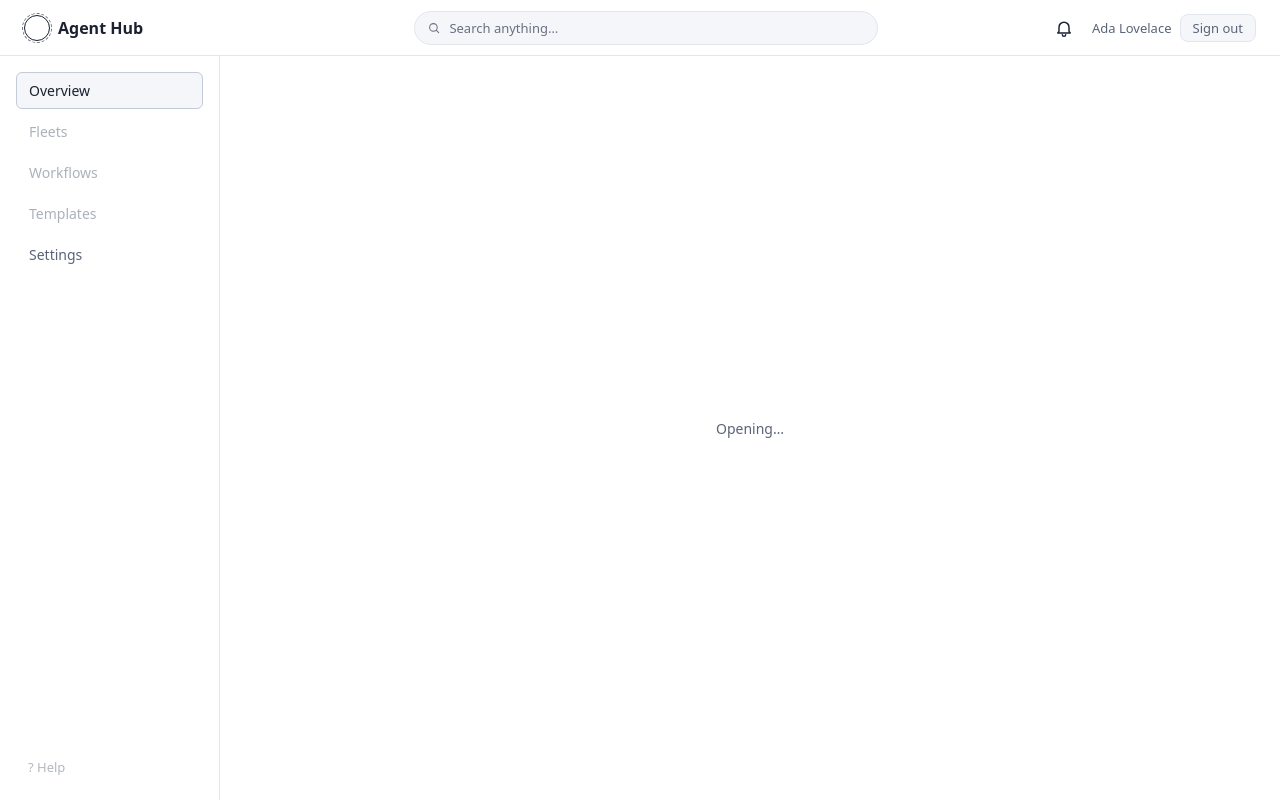
Test: shows who is signed in, and lets them sign out
Check: the text "Ada Lovelace" is shown, box [1092, 18, 1172, 36]
Click the button "Sign out" at (1218, 28), box [1180, 14, 1256, 42]
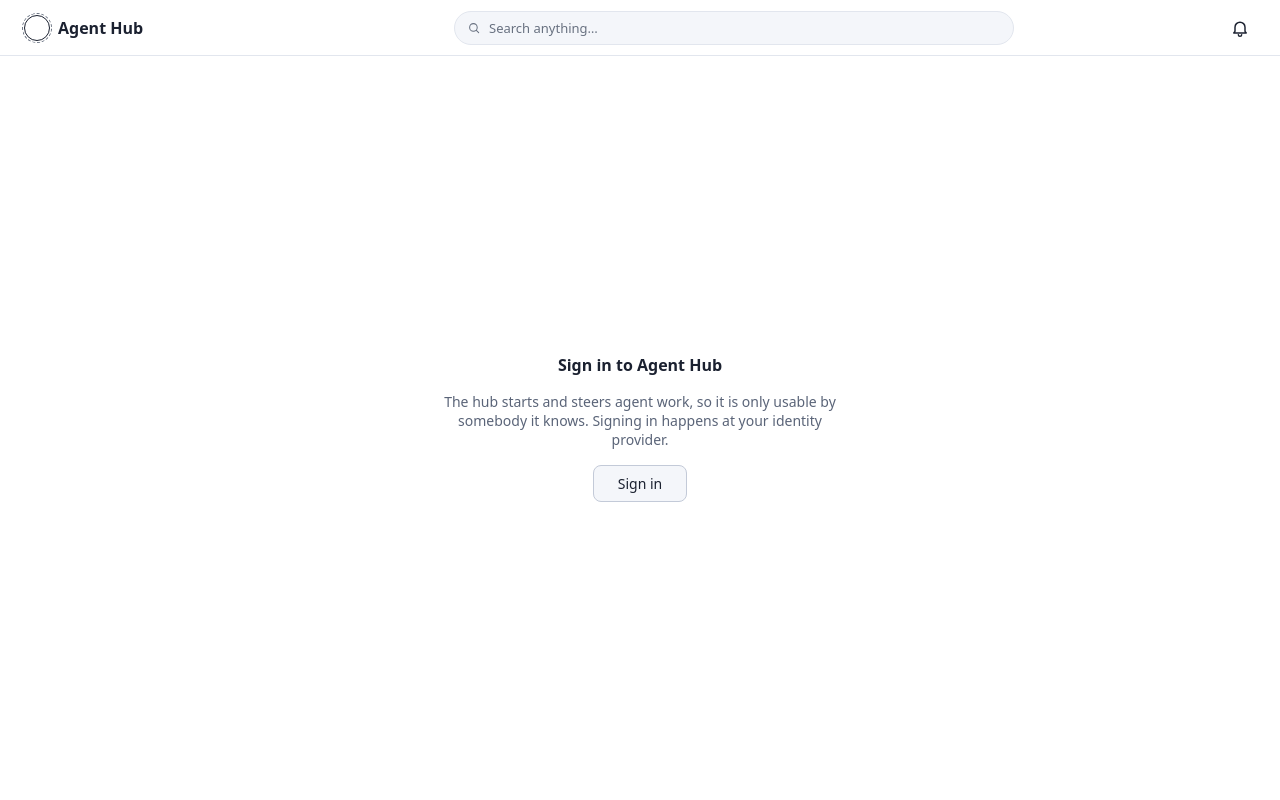
Check: the heading "Sign in to Agent Hub" is shown, box [558, 354, 722, 376]
Check: the text "Ada Lovelace" is gone
